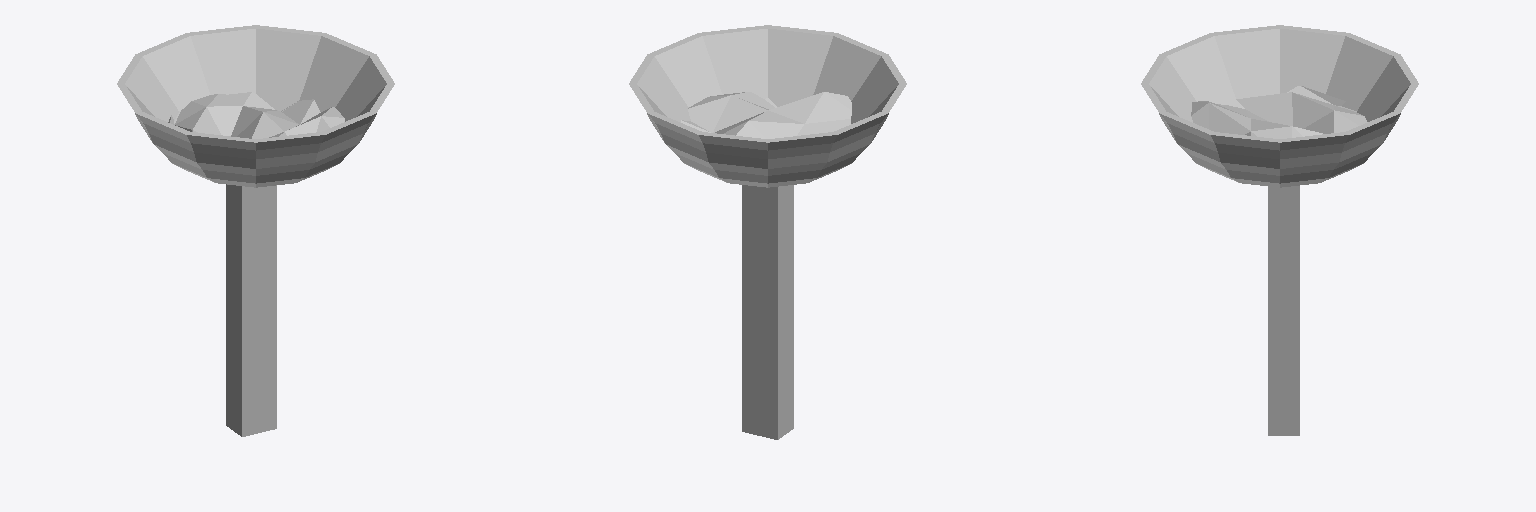
File: EnemyCampFire.obj
3 views of the same model, side by side, from view 1: azimuth 30°, elevation 25°; view 2: azimuth 150°, elevation 25°; view 3: azimuth 270°, elevation 25° (orthographic).
Visible parts, largest first — view 1: Cube.005_Cube.007, Plane; view 2: Cube.005_Cube.007, Plane; view 3: Cube.005_Cube.007, Plane.
Part boxes in pixels (left/top/right/bottom): Cube.005_Cube.007: left=117, top=25, right=394, bottom=436; Plane: left=168, top=92, right=344, bottom=138; Cube.005_Cube.007: left=629, top=25, right=906, bottom=439; Plane: left=681, top=92, right=851, bottom=138; Cube.005_Cube.007: left=1141, top=25, right=1418, bottom=435; Plane: left=1191, top=86, right=1367, bottom=138.
Size of the model in its own units: 3.85 by 5.25 by 3.85.